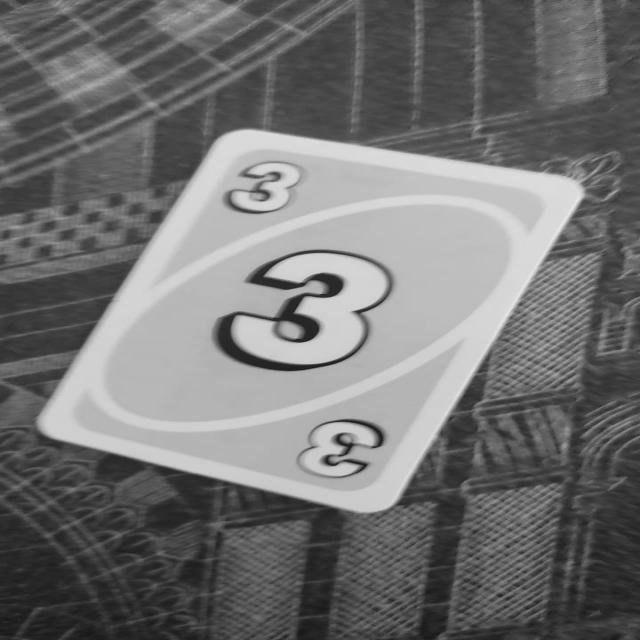card_3: (33, 127, 586, 513)
